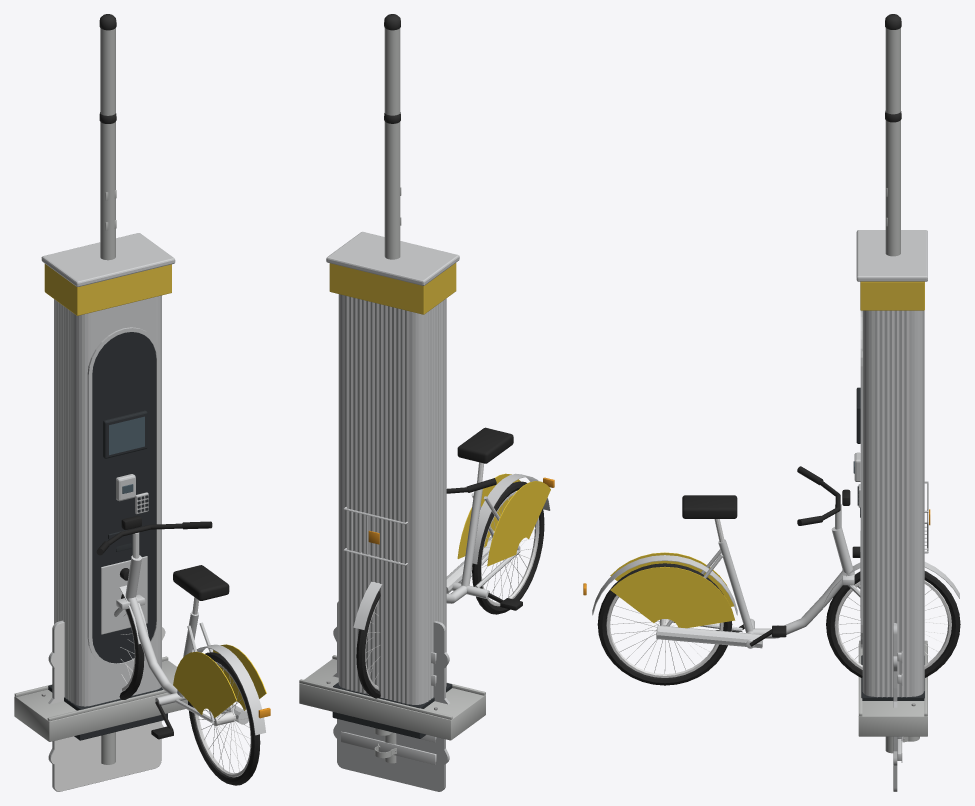
File: streetkit.glb
3 renders of one model, left to right at view 1: azimuth 30°, elevation 25°; view 2: azimuth 150°, elevation 25°; view 3: azimuth 270°, elevation 25°, orthographic.
Visible parts, largest first — view 1: villo_totem, villo_bike, villo_dock, plate_rect, sign_pole_tall, sign_pole, plate_tri_up, plate_square, plate_circle, plate_octagon; view 2: villo_totem, villo_bike, villo_dock, plate_rect, sign_pole_tall, sign_pole, plate_octagon, plate_square, plate_tri_up; view 3: villo_totem, villo_bike, sign_pole_tall, villo_dock, sign_pole.
Boxes of the visible parts, <box> form: villo_totem: <box>41,233,175,740</box>; villo_bike: <box>96,515,270,785</box>; villo_dock: <box>14,543,187,741</box>; plate_rect: <box>52,620,161,791</box>; sign_pole_tall: <box>99,14,116,764</box>; sign_pole: <box>99,112,116,764</box>; plate_tri_up: <box>48,721,163,764</box>; plate_square: <box>52,651,161,763</box>; plate_circle: <box>56,675,146,752</box>; plate_octagon: <box>52,678,146,756</box>; villo_totem: <box>326,231,459,738</box>; villo_bike: <box>343,427,554,698</box>; villo_dock: <box>299,655,485,740</box>; plate_rect: <box>337,601,445,791</box>; sign_pole_tall: <box>384,14,400,762</box>; sign_pole: <box>384,112,400,763</box>; plate_octagon: <box>337,658,445,750</box>; plate_square: <box>337,643,445,761</box>; plate_tri_up: <box>333,724,449,764</box>; villo_totem: <box>853,230,927,700</box>; villo_bike: <box>583,466,960,685</box>; sign_pole_tall: <box>885,14,901,752</box>; villo_dock: <box>858,640,927,736</box>; sign_pole: <box>885,111,901,753</box>.
Size of the model in its own units: 0.85 by 4.08 by 1.85.
